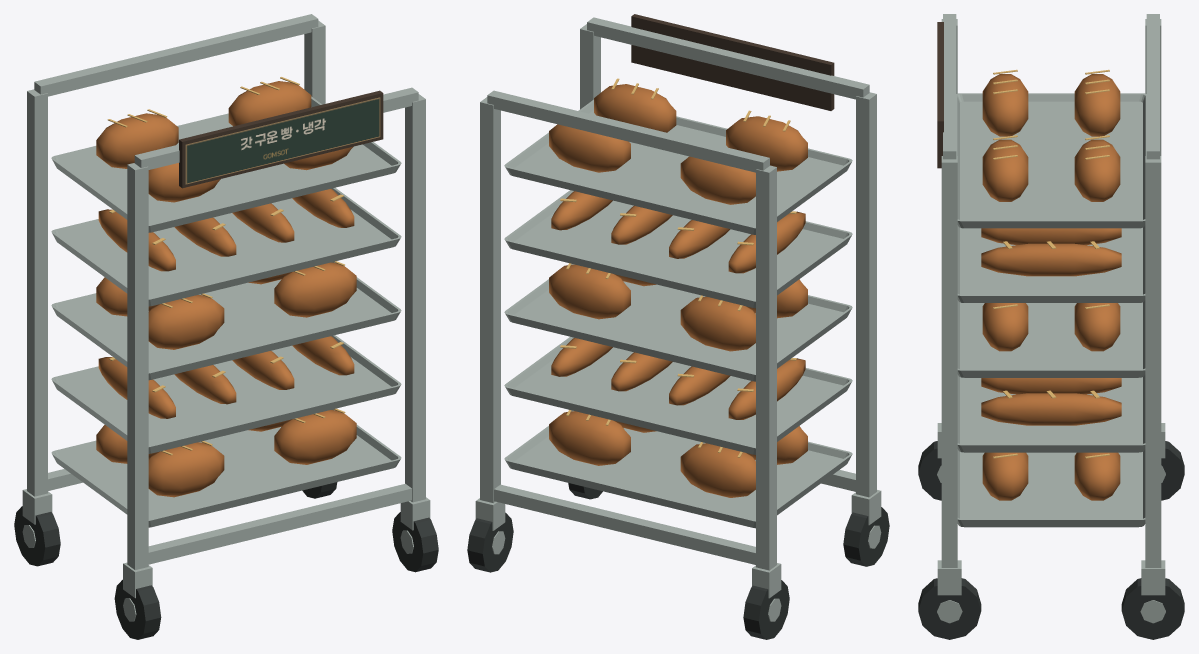
The model's file is 06_Bread_Cooling_Rack.fbx.
The picture shows the model from 3 angles, left to right: view 1: azimuth 30°, elevation 25°; view 2: azimuth 150°, elevation 25°; view 3: azimuth 270°, elevation 25°; orthographic projection.
Visible parts, largest first — view 1: 06_Bread_Cooling_Rack, 06_Bread_Cooling_Rack__Structure; view 2: 06_Bread_Cooling_Rack, 06_Bread_Cooling_Rack__Structure; view 3: 06_Bread_Cooling_Rack, 06_Bread_Cooling_Rack__Structure.
Boxes of the visible parts, x1,y1,x2,y2 form: 06_Bread_Cooling_Rack: [51, 77, 401, 527]; 06_Bread_Cooling_Rack__Structure: [14, 14, 438, 639]; 06_Bread_Cooling_Rack: [504, 78, 852, 528]; 06_Bread_Cooling_Rack__Structure: [467, 14, 889, 639]; 06_Bread_Cooling_Rack: [956, 69, 1146, 527]; 06_Bread_Cooling_Rack__Structure: [918, 14, 1184, 639].
Bounding box in the file's own units: 143 × 226 × 110.
2 materials, 2 textured.
